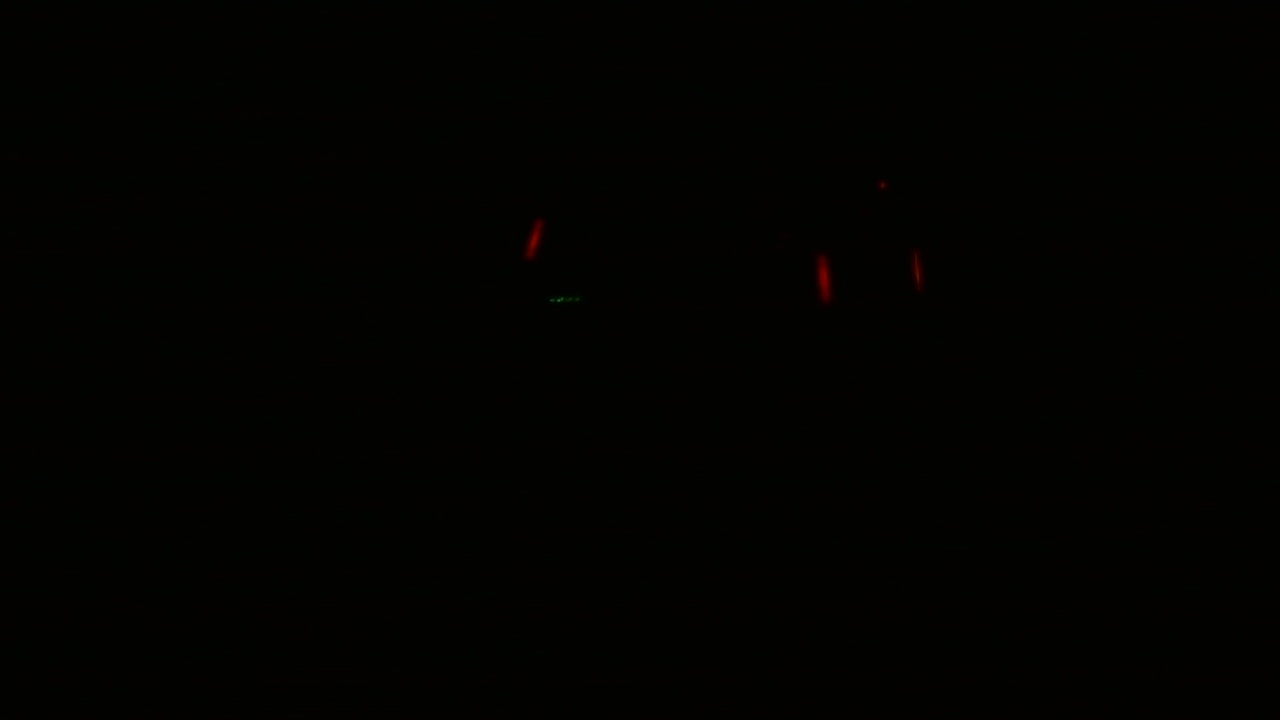pair1: (816, 251, 923, 300)
